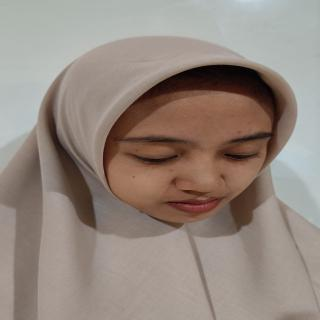Sedih: (91, 75, 293, 233)
